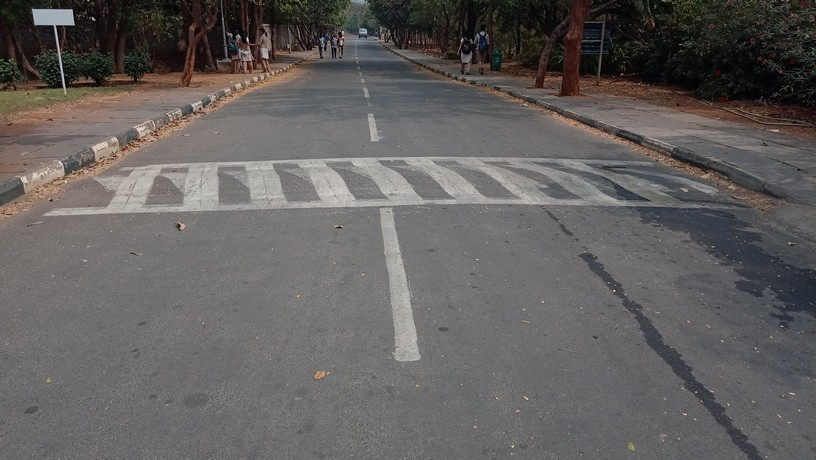bump: (37, 163, 741, 211)
